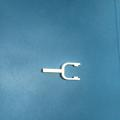u-shape: (41, 61, 81, 82)
